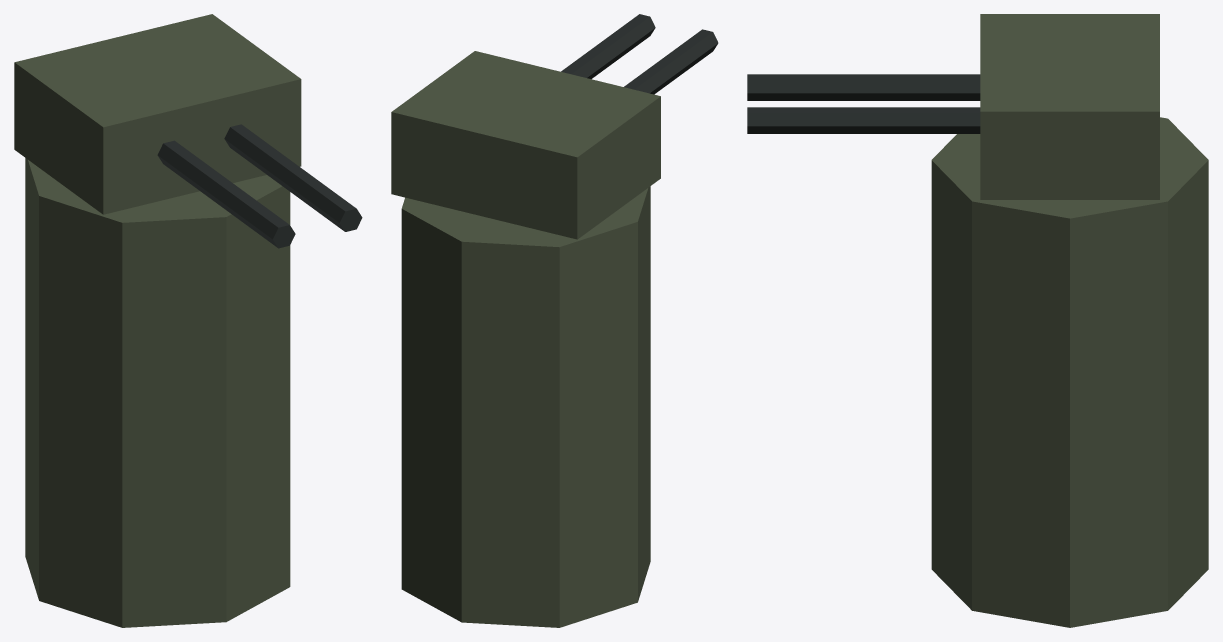
The model's file is Bastion_GunTower_LOD1.obj.
3 renders of one model, left to right at view 1: azimuth 30°, elevation 25°; view 2: azimuth 150°, elevation 25°; view 3: azimuth 270°, elevation 25°, orthographic. The views are drawn at different scales.
Parts seen in each view (by area): view 1: Bastion_GunTower_LOD1; view 2: Bastion_GunTower_LOD1; view 3: Bastion_GunTower_LOD1.
Part boxes in pixels (bbox=[...]): Bastion_GunTower_LOD1: bbox=[14, 14, 362, 627]; Bastion_GunTower_LOD1: bbox=[391, 14, 718, 627]; Bastion_GunTower_LOD1: bbox=[747, 14, 1208, 627].
Bounding box in the file's own units: 2.7 × 5.45 × 4.5.
Materials: 1 (1 with a texture image).
